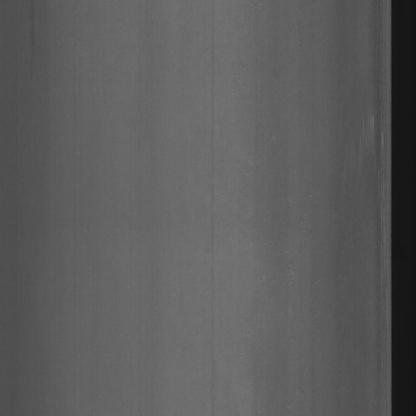silk_spot: (367, 71, 387, 396)
